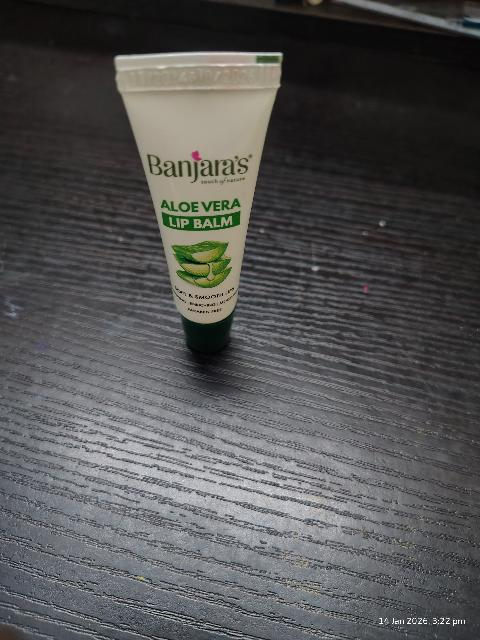banjaras lipbam: (108, 55, 297, 362)
